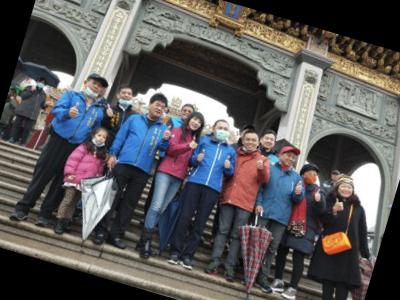mask_weared_incorrect: (83, 79, 104, 99), (241, 134, 261, 153), (91, 131, 108, 148), (117, 89, 133, 107)
with_mask: (211, 123, 231, 142), (301, 169, 319, 186), (36, 80, 46, 90)
without_mask: (336, 182, 355, 200), (147, 100, 166, 118), (279, 151, 297, 168), (188, 114, 204, 132), (259, 135, 276, 151), (179, 106, 195, 122), (330, 172, 341, 182)
